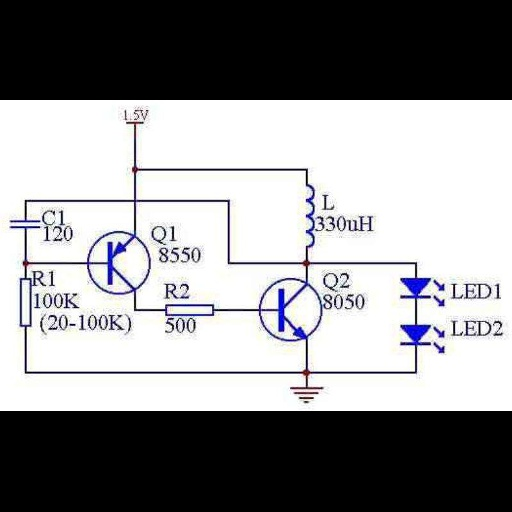capacitor: (8, 216, 42, 234)
firstled: (393, 274, 447, 312), (393, 322, 449, 357)
firstresistance: (160, 301, 221, 318), (17, 274, 34, 334)
gnd: (289, 385, 326, 405)
inductor: (298, 176, 316, 252)
npn: (272, 285, 310, 340)
pnp: (99, 238, 137, 290)
